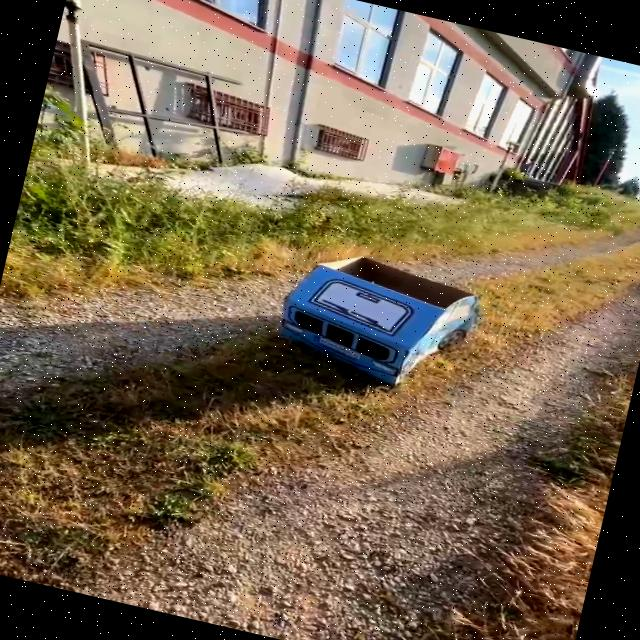blue_car: (207, 207, 530, 437)
